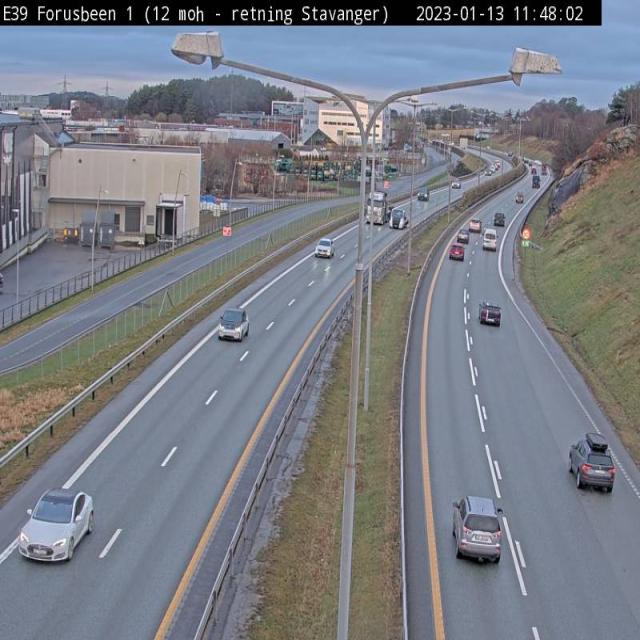car: (18, 490, 96, 563), (452, 496, 505, 565), (569, 434, 618, 493), (455, 513, 504, 565), (217, 307, 249, 343), (479, 302, 502, 326), (482, 227, 498, 251), (315, 239, 334, 259), (448, 245, 466, 261)
